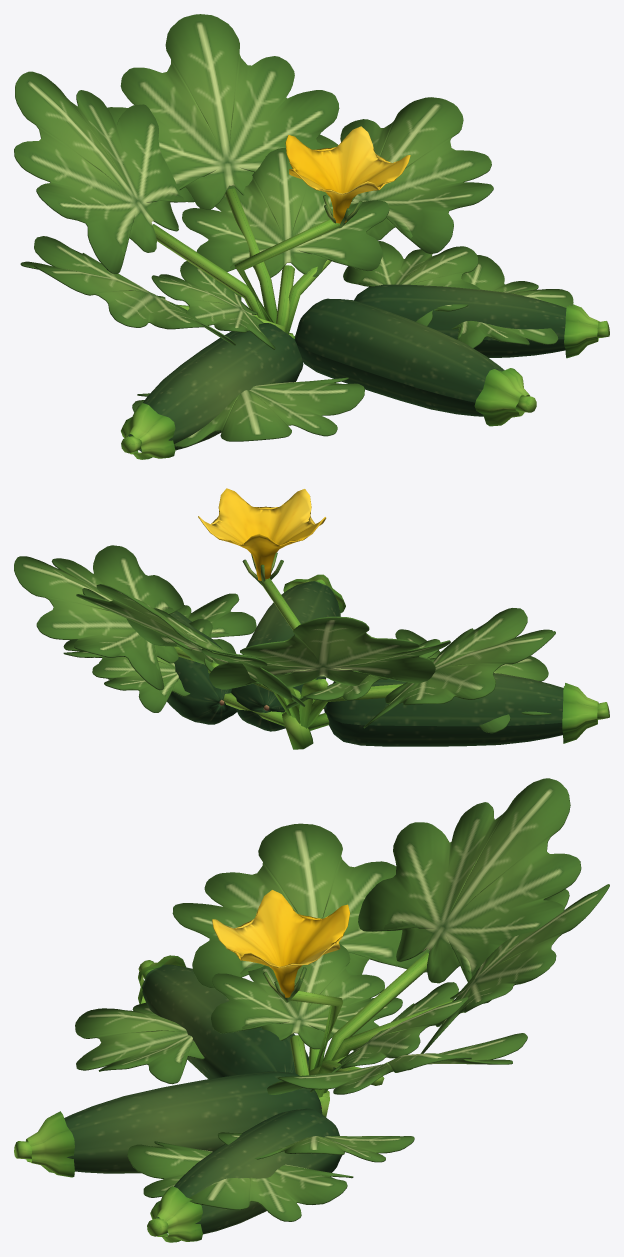
File: NP_Zucchini_Ready.fbx
The picture shows the model from 3 angles, top to bottom: view 1: azimuth 30°, elevation 25°; view 2: azimuth 150°, elevation 25°; view 3: azimuth 270°, elevation 25°; orthographic projection. The views are drawn at different scales.
Parts seen in each view (by area): view 1: NP_Zucchini_Ready; view 2: NP_Zucchini_Ready; view 3: NP_Zucchini_Ready.
Boxes of the visible parts, left/top/right/bottom form: NP_Zucchini_Ready: left=14, top=14, right=609, bottom=459; NP_Zucchini_Ready: left=14, top=488, right=609, bottom=749; NP_Zucchini_Ready: left=14, top=778, right=609, bottom=1242.
Bounding box in the file's own units: 99.84 × 47.54 × 94.53.
